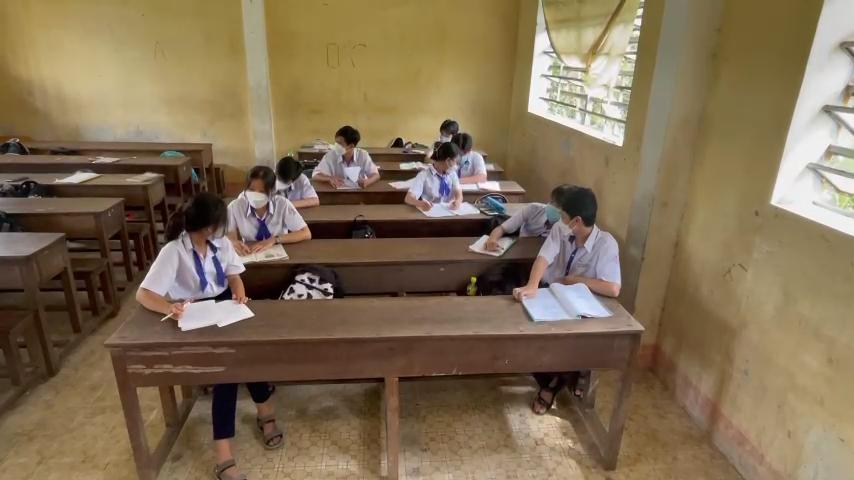Look Around: (540, 180, 607, 244), (163, 183, 230, 246), (420, 131, 464, 185), (326, 112, 369, 166)
